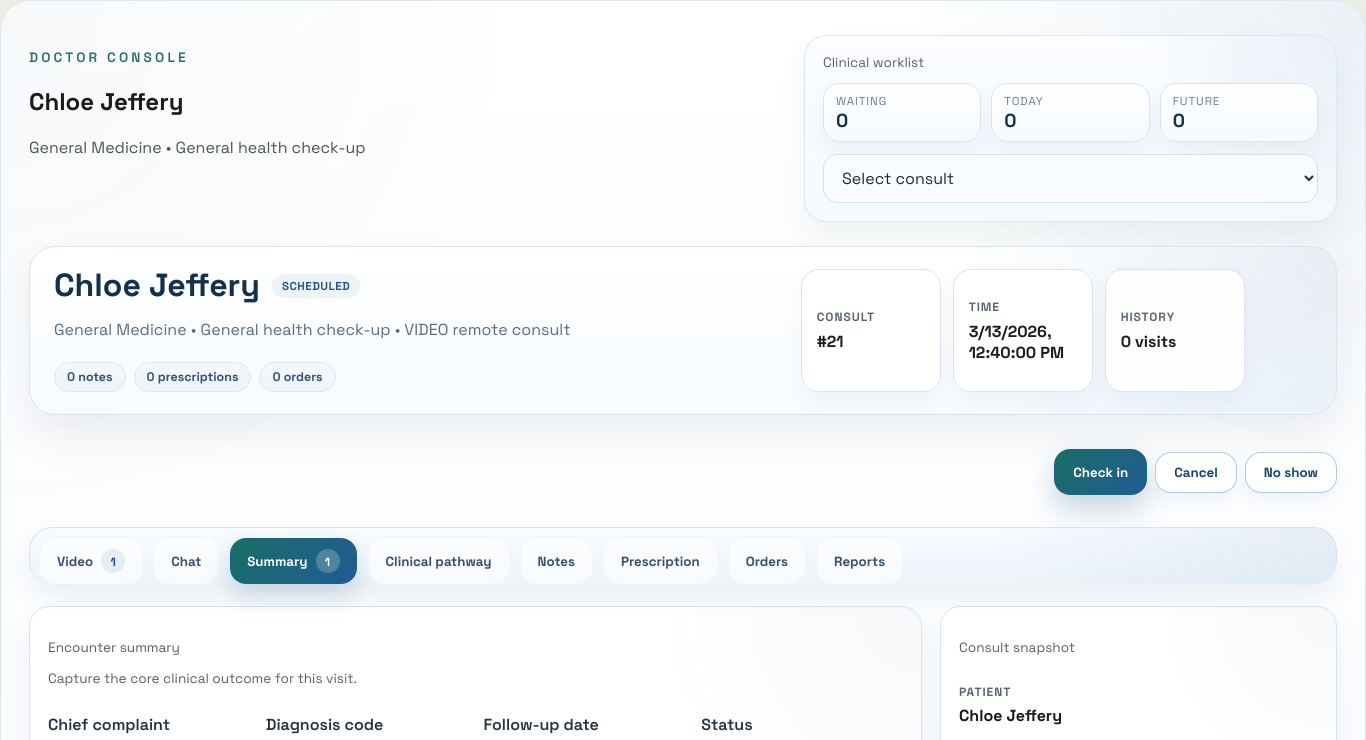
Test case: DoctorConsoleWorkspace › shows the video launcher for remote video consults after consent
Step 1. Click the button "Video 1" → (91, 562), box [40,538,142,584]
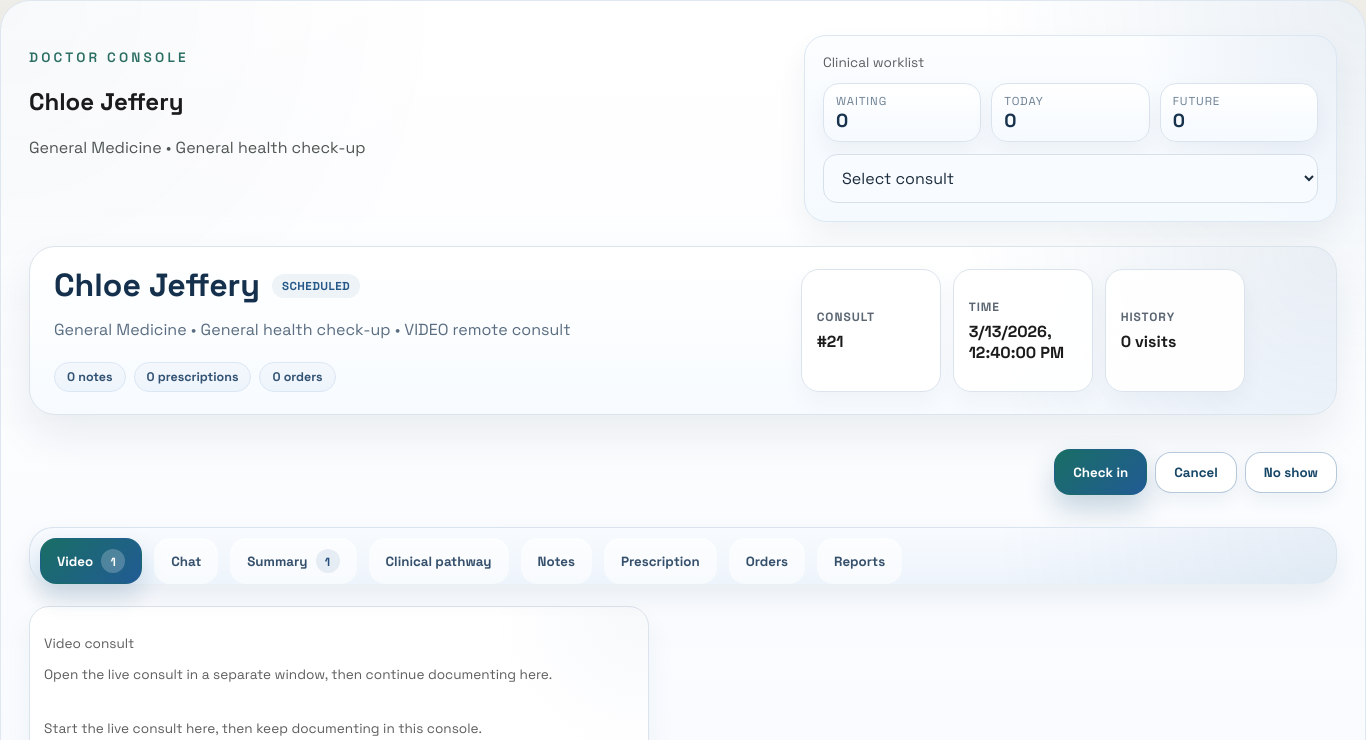
Expected: the text "Open the live consult in a separate window, then continue documenting here." is shown, [44,666,552,683]
Expected: the text "Patient" is gone
